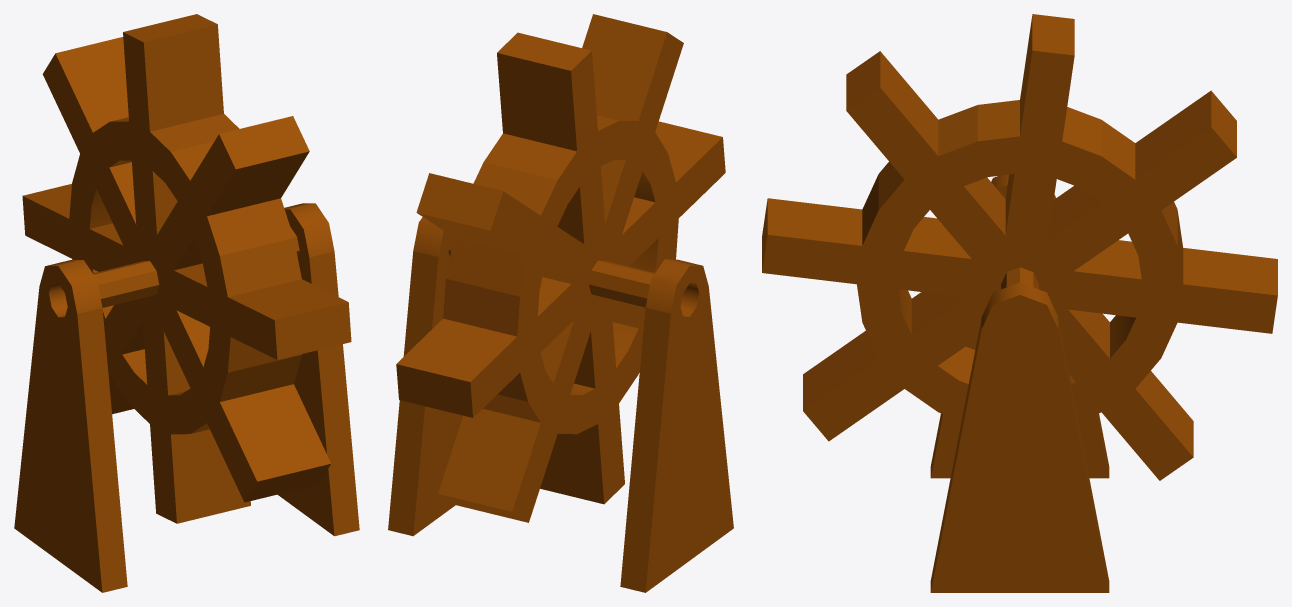
File: waterwheel all.fbx
The picture shows the model from 3 angles, left to right: view 1: azimuth 30°, elevation 25°; view 2: azimuth 150°, elevation 25°; view 3: azimuth 270°, elevation 25°; orthographic projection.
Visible parts, largest first — view 1: Group1, Group1_2; view 2: Group1, Group1_2; view 3: Group1, Group1_2.
Boxes of the visible parts, x1,y1,x2,y2 form: Group1: (22, 14, 351, 523); Group1_2: (14, 203, 359, 592); Group1: (396, 14, 725, 522); Group1_2: (388, 217, 733, 592); Group1: (762, 14, 1277, 480); Group1_2: (930, 174, 1109, 592).
Size of the model in its own units: 589 by 1075 by 1011.
